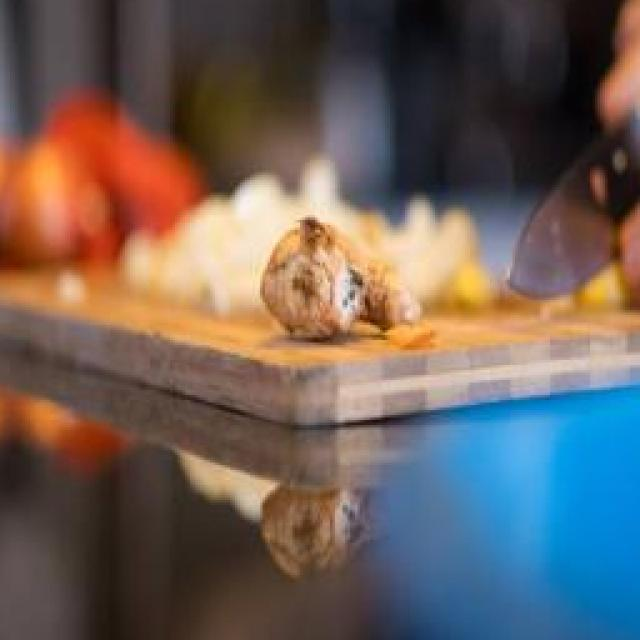knife: (502, 57, 640, 305)
